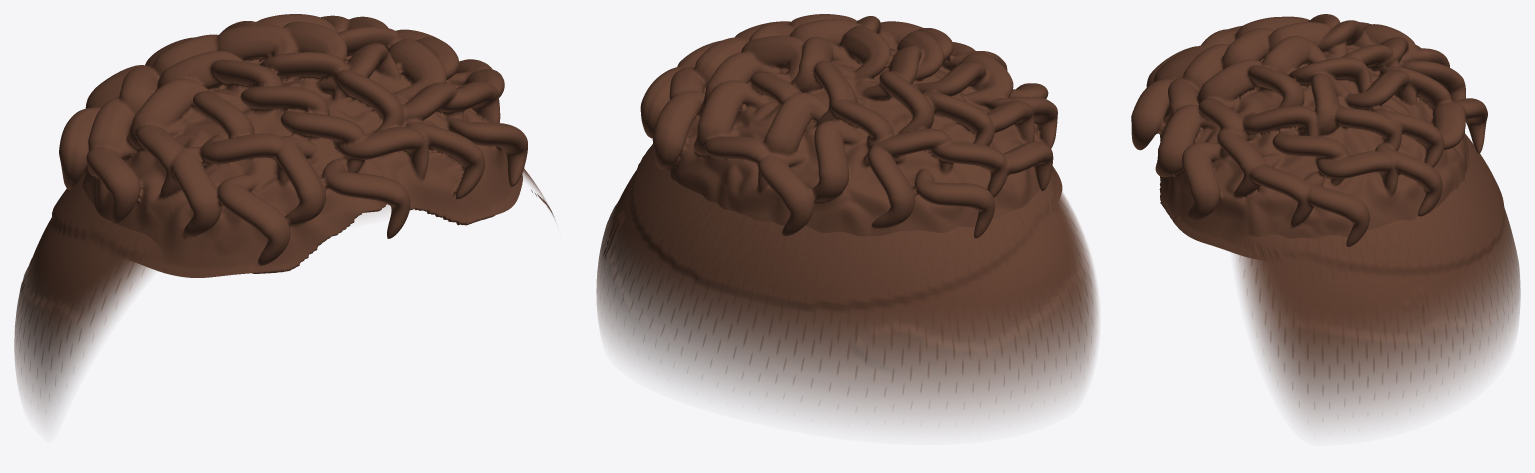
Rendered from Masculine-curly-top-headband258-hair.glb.
The picture shows the model from 3 angles, left to right: view 1: azimuth 30°, elevation 25°; view 2: azimuth 150°, elevation 25°; view 3: azimuth 270°, elevation 25°; orthographic projection. The views are drawn at different scales.
Parts seen in each view (by area): view 1: 226 hair / Hair252 / sculpted curl groups, 226 hair / Hair258 / smooth side fade, 226 hair / Hair258 / directional fade marks; view 2: 226 hair / Hair258 / smooth side fade, 226 hair / Hair252 / sculpted curl groups, 226 hair / Hair258 / directional fade marks; view 3: 226 hair / Hair252 / sculpted curl groups, 226 hair / Hair258 / smooth side fade, 226 hair / Hair258 / directional fade marks.
Boxes of the visible parts, box(x1,y1,x2,y2) form: 226 hair / Hair252 / sculpted curl groups: box(59, 14, 527, 277); 226 hair / Hair258 / smooth side fade: box(14, 167, 555, 419); 226 hair / Hair258 / directional fade marks: box(15, 170, 159, 385); 226 hair / Hair258 / smooth side fade: box(596, 144, 1098, 424); 226 hair / Hair252 / sculpted curl groups: box(640, 14, 1062, 238); 226 hair / Hair258 / directional fade marks: box(603, 144, 1092, 395); 226 hair / Hair252 / sculpted curl groups: box(1131, 14, 1487, 258); 226 hair / Hair258 / smooth side fade: box(1233, 134, 1520, 426); 226 hair / Hair258 / directional fade marks: box(1238, 136, 1512, 408).
Size of the model in its own units: 0.9705 by 0.665 by 0.7492.
